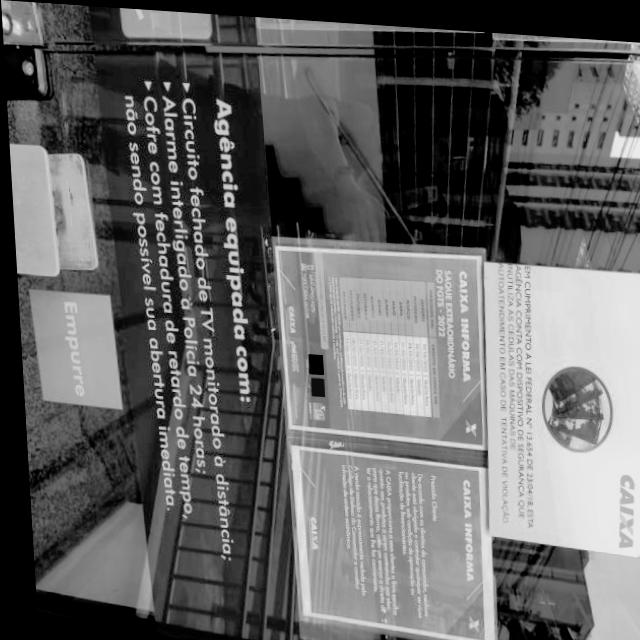qr_code: (303, 350, 318, 371), (305, 373, 320, 393)
